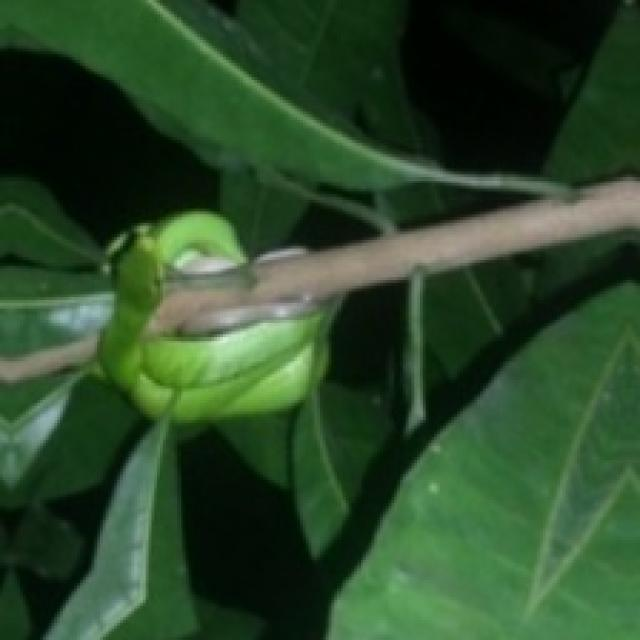red-tailed green ratsnake: (97, 211, 334, 420)
